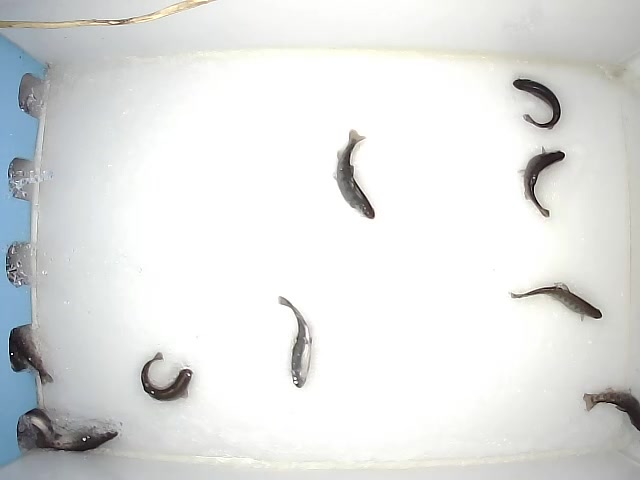fish: (331, 127, 377, 220), (509, 281, 603, 324), (518, 145, 568, 219), (275, 293, 313, 388), (139, 350, 194, 401), (510, 76, 561, 130), (39, 426, 119, 453)
